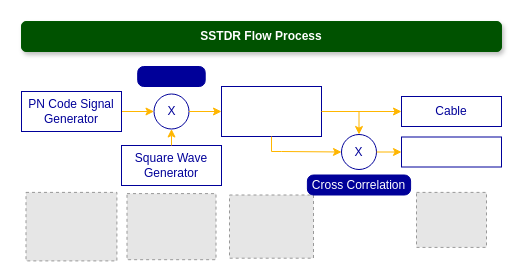
The diagram is 525 pixels wide and 279 high, and some of its shapes have lost their labels. Grey dashed boxes stand in for pictures. The centre of each missing label's shape, as x and y in pixels:
Modulation: point 171,76
Output: point 451,151
Square Wave Modulated PN Code: point 271,111
